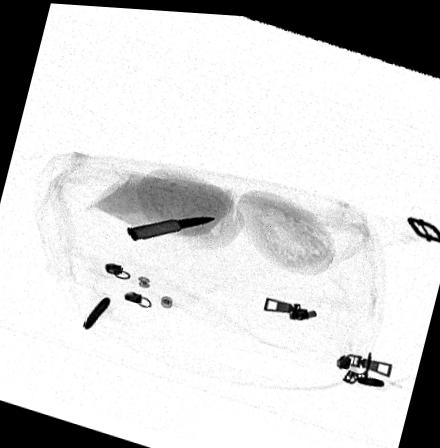Bullet: (123, 211, 216, 239)
